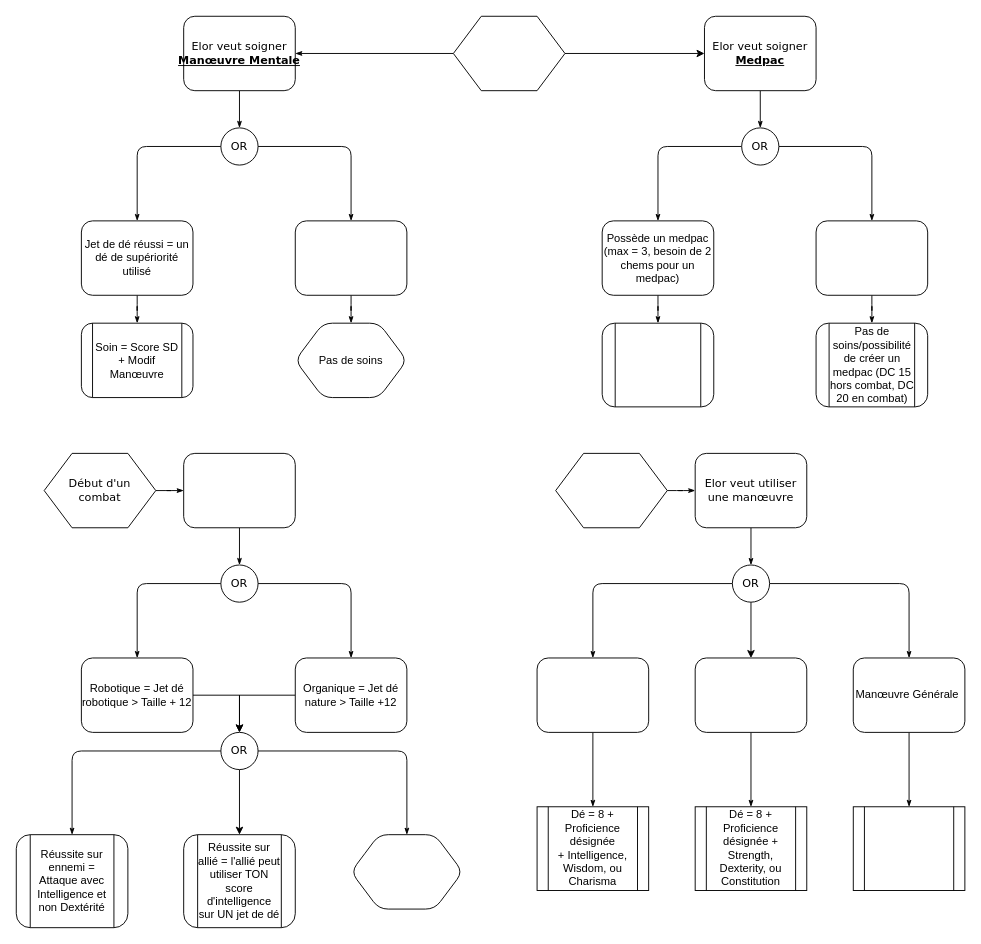
Image size: 981x944. Some labels were removed from this diagram. Here are the shapes that lost their labels. From the top down, the box of each, then its label:
(452, 15, 565, 91): Personne blessée
(294, 220, 407, 295): Echec jet de dé
(815, 220, 928, 295): Pas de medpac
(601, 322, 714, 407): Soin = Dé de vie de la cible + constitution
(183, 452, 295, 528): Elor veut lancer analyse critique = action BONUS
(555, 452, 667, 528): Lancement d'une action
(536, 657, 649, 732): Manœuvre Mentale
(694, 657, 807, 732): Manœuvre Physique
(852, 806, 965, 890): Dé = 8 + Proficience désignée + au choix
(350, 834, 463, 909): Echec = pas de bonus
